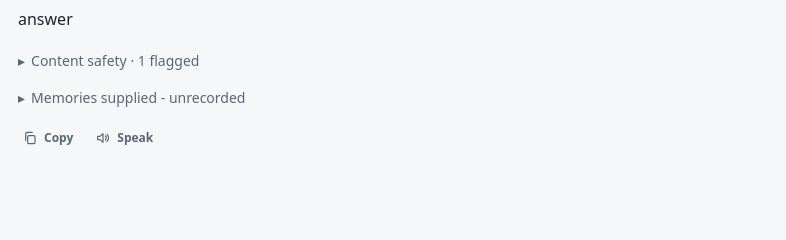
Test case: MessageList content-safety panel › distinguishes app enforcement from provider-native behavior
Click the heading "Content safety · 1 flagged" at (115, 61), box [31,51,199,70]
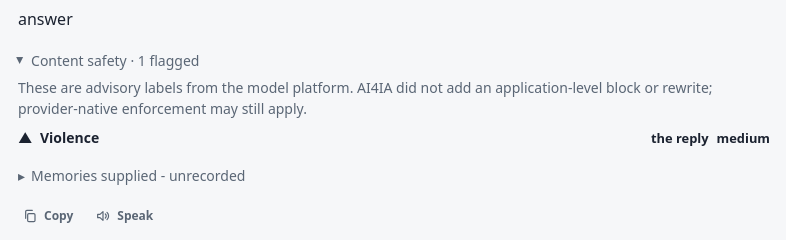
Now the text "AI4IA did not add an application-level block or rewrite" is shown, box [18,78,713,118]
